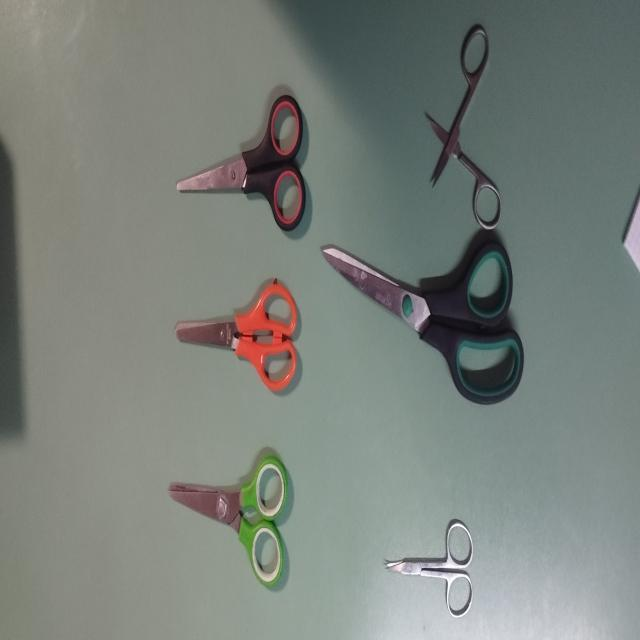tesoura: (320, 239, 524, 406), (176, 89, 308, 233), (166, 446, 288, 592), (422, 18, 504, 234), (174, 270, 298, 395), (384, 514, 475, 622)
